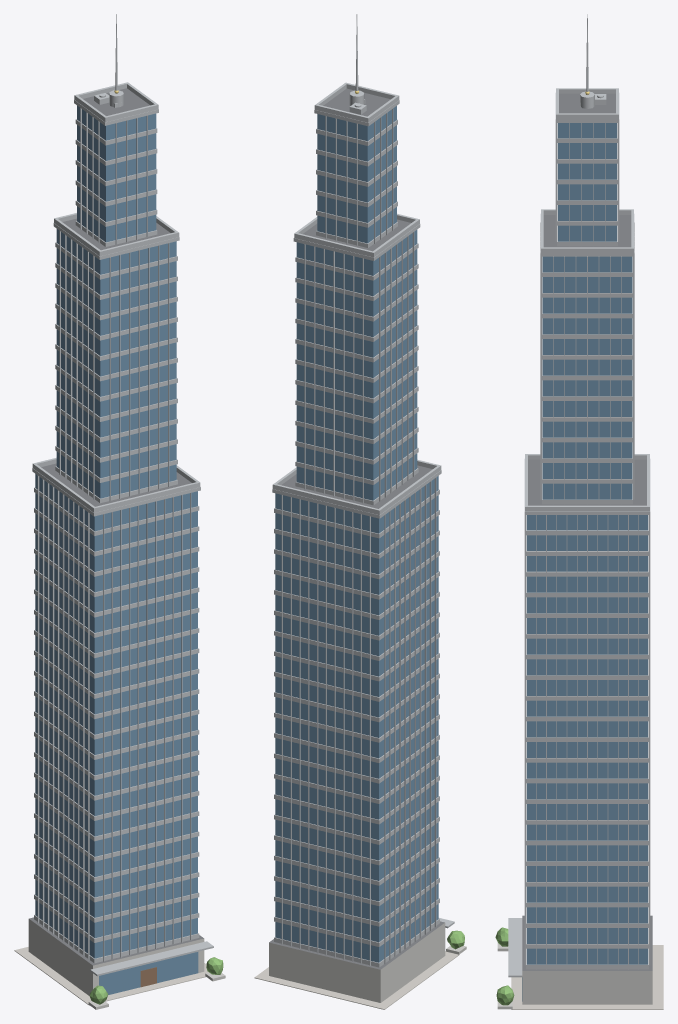
3 views of the same model, side by side, from view 1: azimuth 30°, elevation 25°; view 2: azimuth 150°, elevation 25°; view 3: azimuth 270°, elevation 25° (orthographic).
Parts seen in each view (by area): view 1: c_3_2_b; view 2: c_3_2_b; view 3: c_3_2_b.
Part boxes in pixels (<box>): c_3_2_b: <box>14,14,225,1009</box>; c_3_2_b: <box>254,14,466,1009</box>; c_3_2_b: <box>495,14,663,1009</box>.
Size of the model in its own units: 24.45 by 168 by 26.52.
